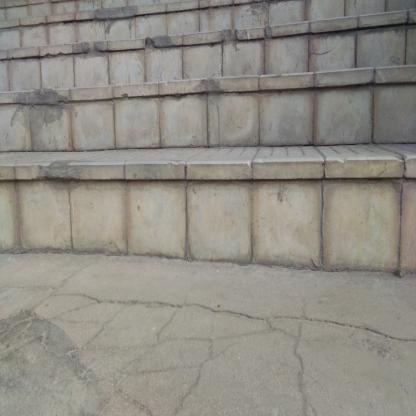stairs: (1, 8, 416, 275)
